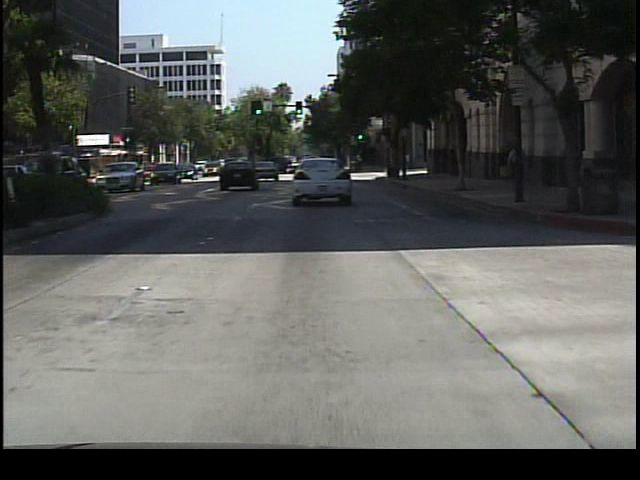person: (504, 146, 527, 202)
